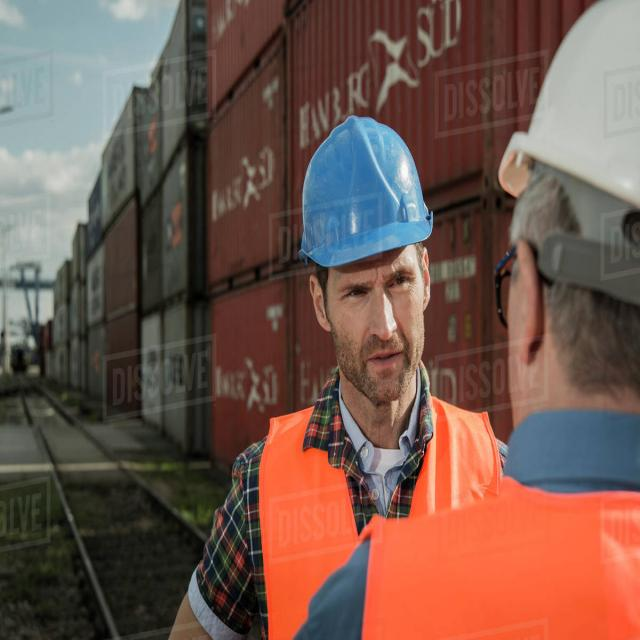Reflective-Jacket: (253, 392, 499, 634), (357, 470, 640, 640)
Safety-Helmet: (495, 1, 640, 230), (296, 111, 433, 268)
